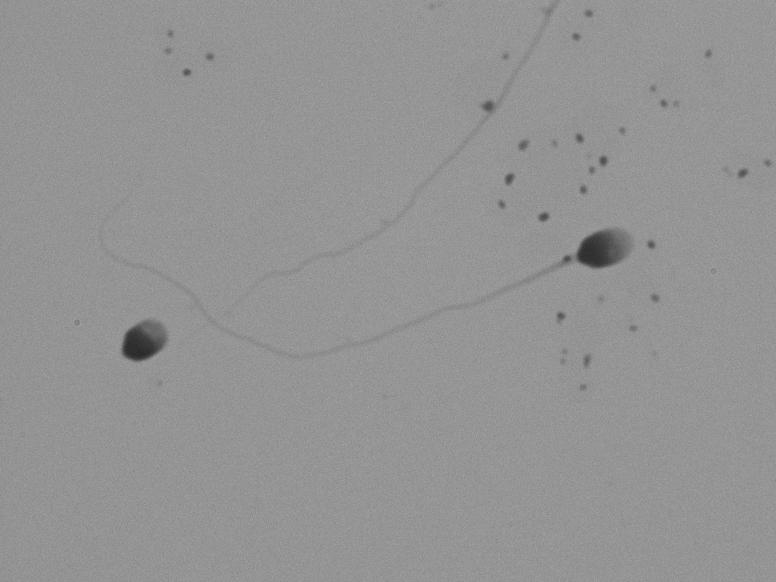Abnormal: (110, 267, 185, 419)
Normal: (175, 176, 666, 420)
